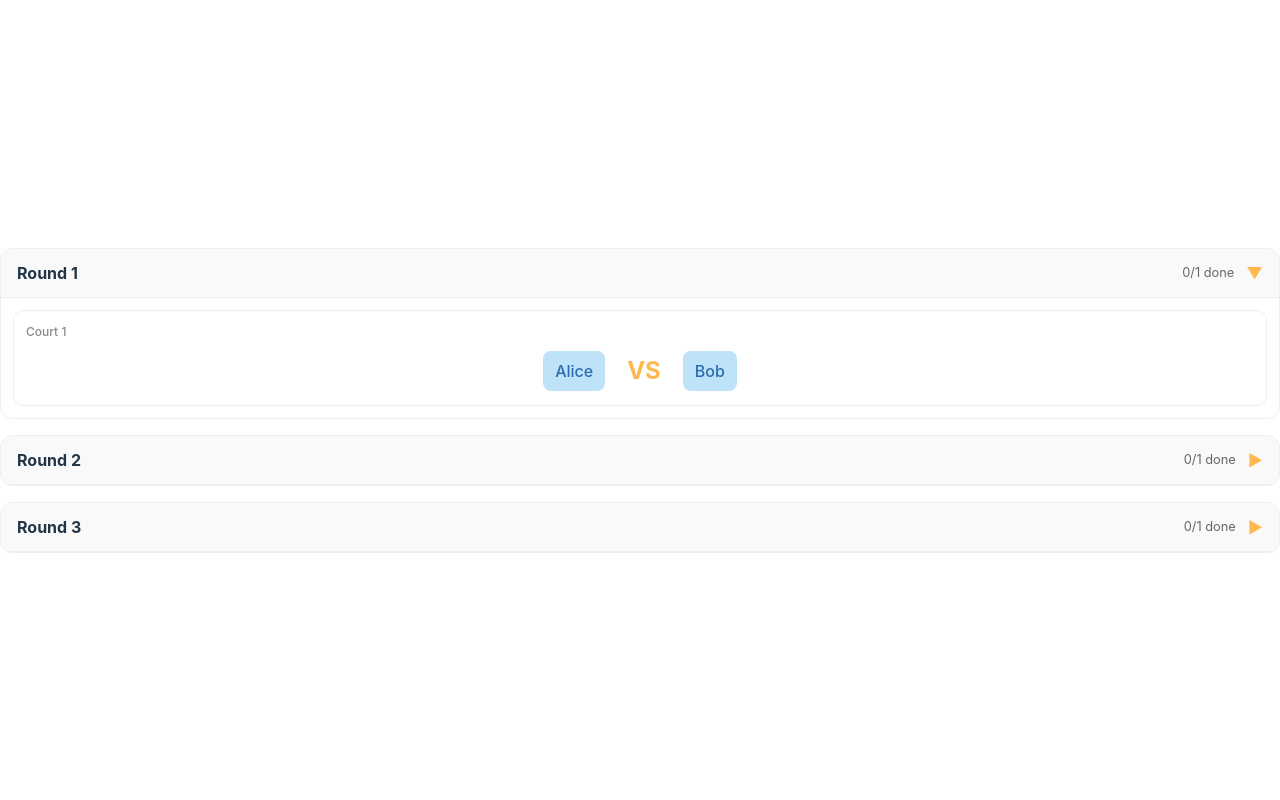
Scenario: RoundRobinMatches › score modal › clicking team 1 opens modal with winnerTeam=1
This screenshot has width=1280, height=800.
Step 1. Click the text "Alice" → {"x": 574, "y": 370}, box [543, 350, 605, 390]
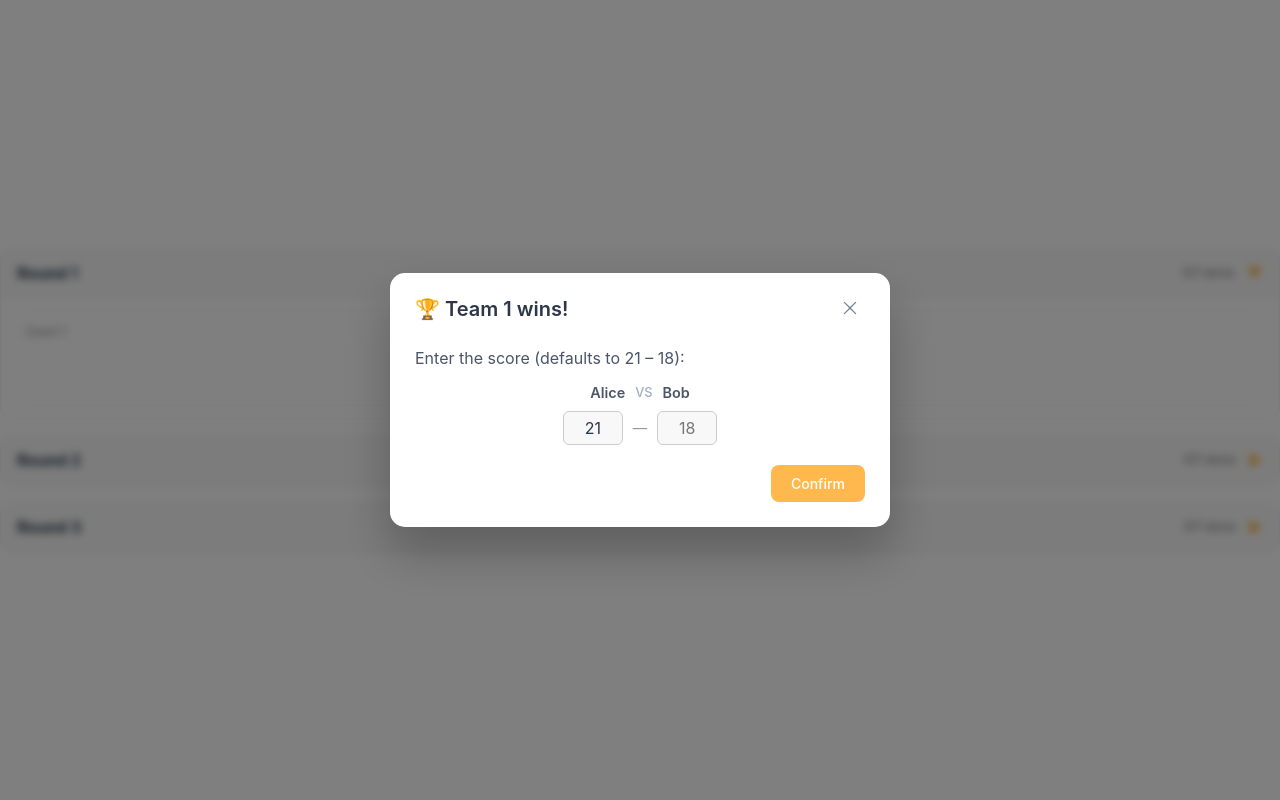
Result: the element with test id "score-input-modal" is shown
Result: the heading "🏆 Team 1 wins!" is shown at [415, 294, 568, 324]
